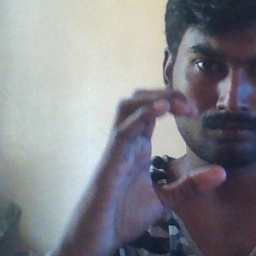C: (107, 85, 232, 212)
